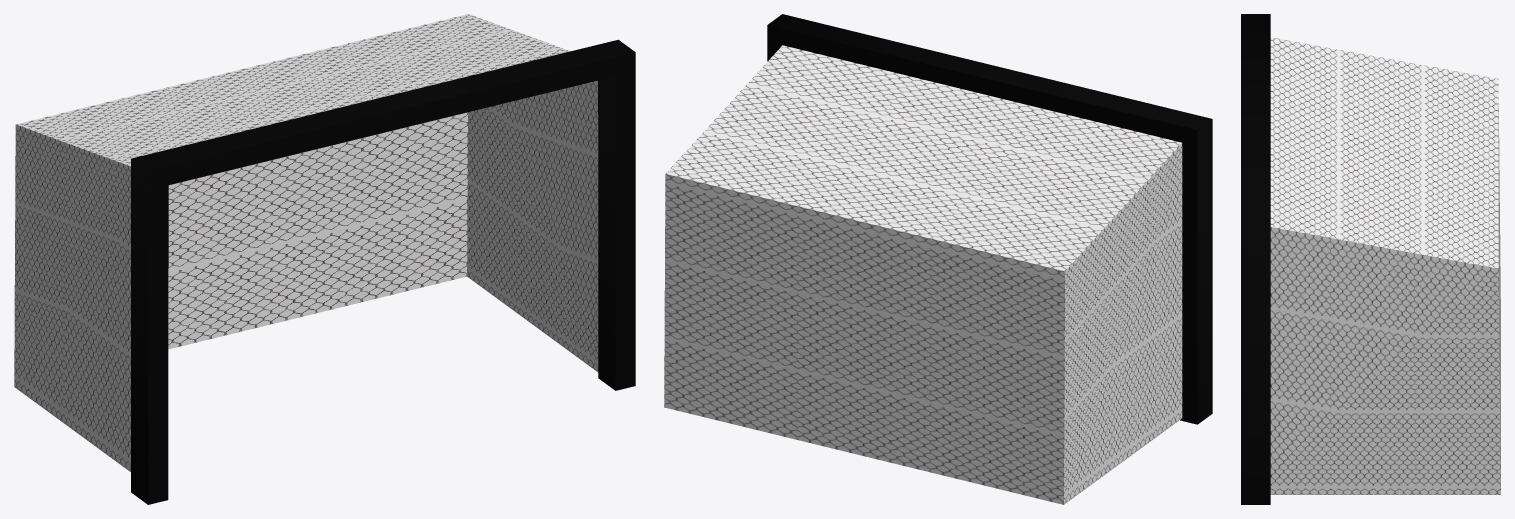
File: foot ball goalgate.fbx
The picture shows the model from 3 angles, left to right: view 1: azimuth 30°, elevation 25°; view 2: azimuth 150°, elevation 25°; view 3: azimuth 270°, elevation 25°; orthographic projection. The views are drawn at different scales.
Visible parts, largest first — view 1: pCube7, pCube6; view 2: pCube7, pCube6; view 3: pCube7, pCube6.
Boxes of the visible parts, x1,y1,x2,y2 form: pCube7: (14,14,598,471); pCube6: (131,39,635,504); pCube7: (664,45,1182,504); pCube6: (767,14,1212,424); pCube7: (1270,37,1500,494); pCube6: (1241,14,1270,504).
Bounding box in the file's own units: 397 × 260 × 213.
2 materials, 1 textured.
